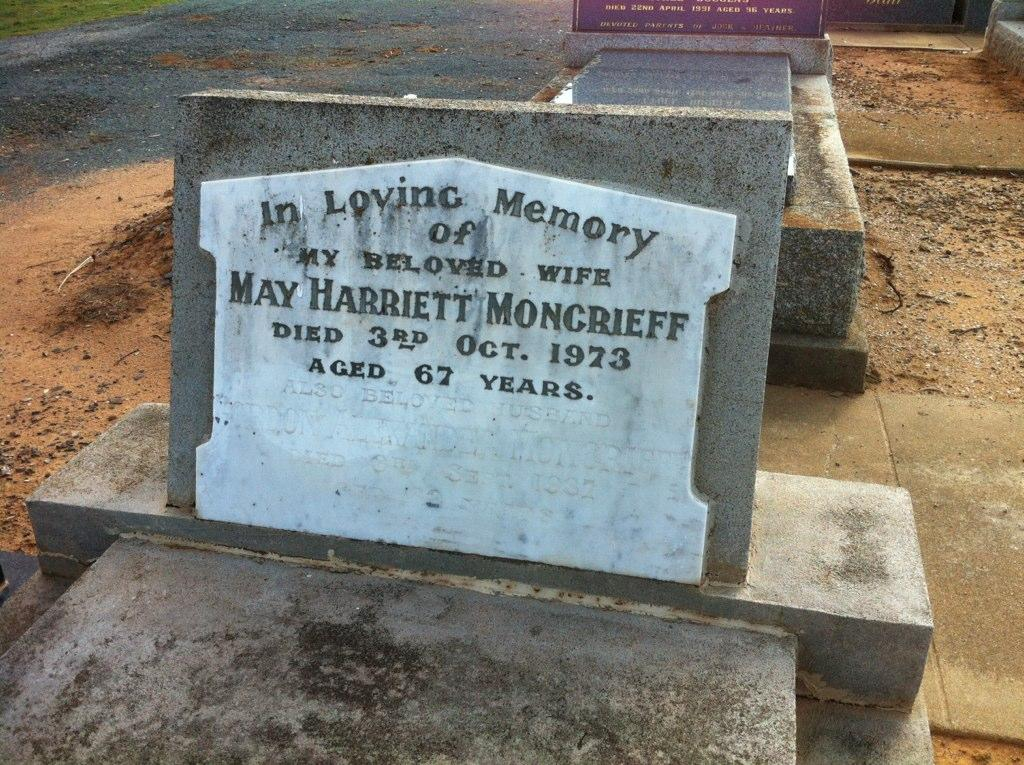vault: (0, 89, 949, 765)
